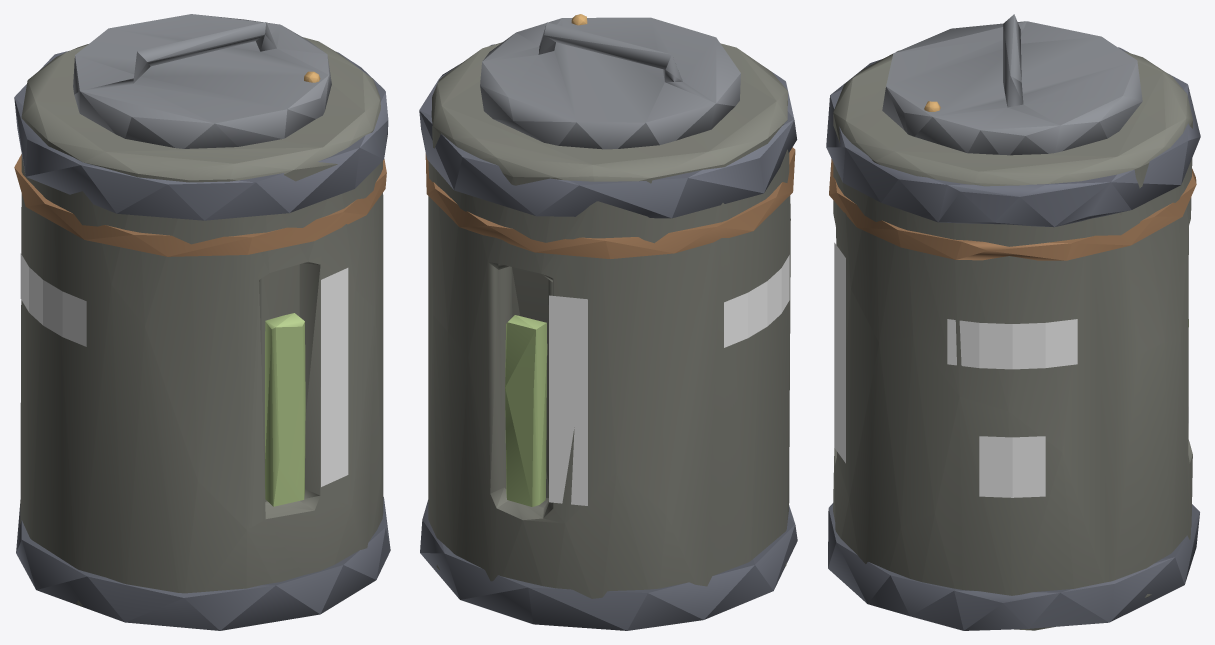
Rendered from cellule_b.glb.
3 renders of one model, left to right at view 1: azimuth 30°, elevation 25°; view 2: azimuth 150°, elevation 25°; view 3: azimuth 270°, elevation 25°, orthographic.
Visible parts, largest first — view 1: cellule_b, cellule_b_decal, cellule_b_glow; view 2: cellule_b, cellule_b_decal, cellule_b_glow; view 3: cellule_b, cellule_b_decal.
Part boxes in pixels (box(x1,y1,x2,y2)): cellule_b: box(14, 14, 390, 630); cellule_b_decal: box(20, 253, 348, 486); cellule_b_glow: box(265, 71, 320, 506); cellule_b: box(419, 17, 797, 630); cellule_b_decal: box(549, 255, 789, 505); cellule_b_glow: box(505, 14, 587, 506); cellule_b: box(826, 14, 1200, 630); cellule_b_decal: box(834, 242, 1077, 497).
Bounding box in the file's own units: 0.5658 × 0.853 × 0.5619.
